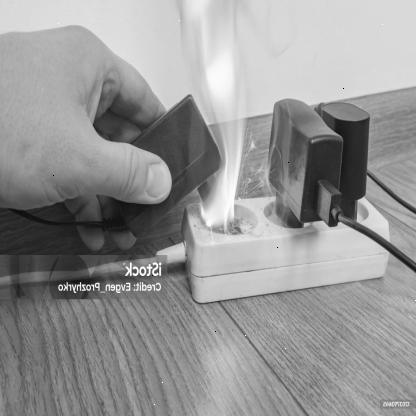fire: (175, 4, 251, 235)
